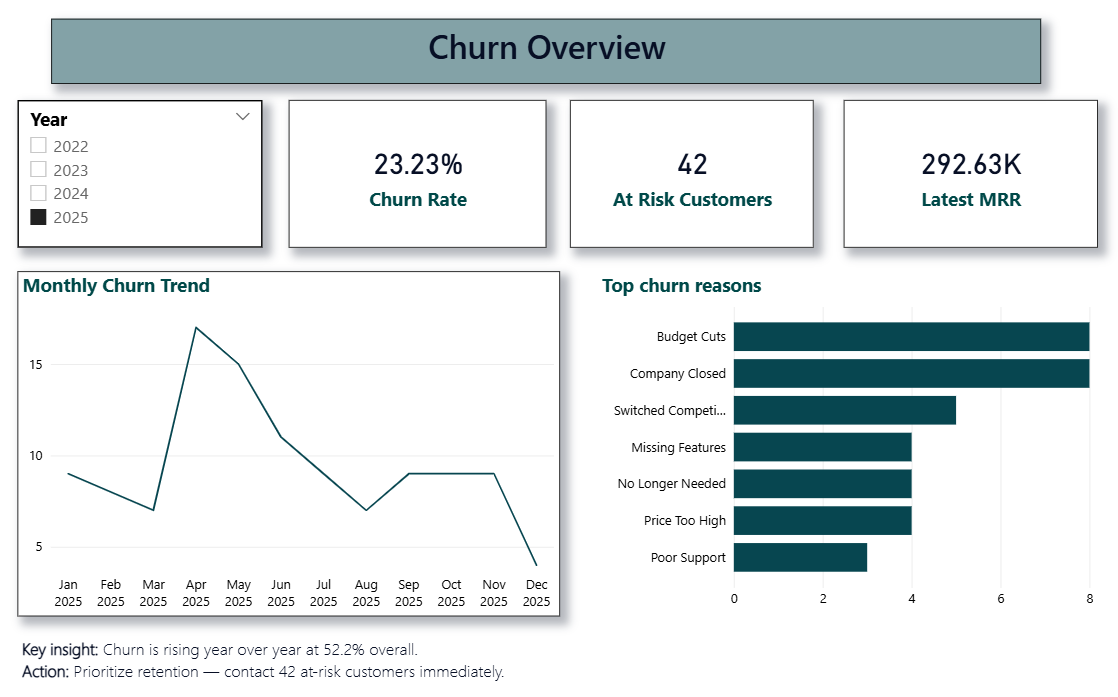

Layout of this report page (visuals, bound fields, positions):
{"tool":"powerbi","page":{"name":"Churn Overview","canvas":[1280,800],"ordinal":0},"visuals":[{"type":"card","fields":{"Values":["subscriptions.Churn Rate"]},"box":[330,114.3,294.3,168.6],"z":0},{"type":"card","fields":{"Values":["subscriptions.At Risk Customers"]},"box":[651.4,114.3,278.6,168.6],"z":1000},{"type":"lineChart","title":"Monthly Churn Trend ","fields":{"Y":["subscriptions.Churned by Month"],"Category":["DimDate.Month Year"]},"box":[20,310,620,394.3],"z":2000},{"type":"slicer","fields":{"Values":["DimDate.Year"]},"box":[20,114.3,280,168.6],"z":3000},{"type":"clusteredBarChart","title":"Top churn reasons","fields":{"Y":["CountNonNull(subscriptions.customer_id)"],"Category":["subscriptions.churn_reason"]},"box":[682.9,310,571.4,394.3],"z":4000},{"type":"card","fields":{"Values":["monthly_revenue(1).Latest MRR"]},"box":[964.3,114.3,290,168.6],"z":5000},{"type":"textbox","box":[20,724.3,962.9,75.7],"z":5001},{"type":"textbox","box":[58.6,21.4,1131.4,74.3],"z":5002}]}

Visuals, with their boxes in screenshot pixels (x1, y1, x2, y2), scaled from the page's 1280x800 canvas onto the 1118x697 screenshot:
card - subscriptions.Churn Rate: crop(288, 100, 545, 246)
card - subscriptions.At Risk Customers: crop(569, 100, 812, 246)
"Monthly Churn Trend " lineChart: crop(17, 270, 559, 614)
slicer - DimDate.Year: crop(17, 100, 262, 246)
"Top churn reasons" clusteredBarChart: crop(596, 270, 1096, 614)
card - monthly_revenue(1).Latest MRR: crop(842, 100, 1096, 246)
textbox: crop(17, 631, 859, 696)
textbox: crop(51, 19, 1039, 83)
